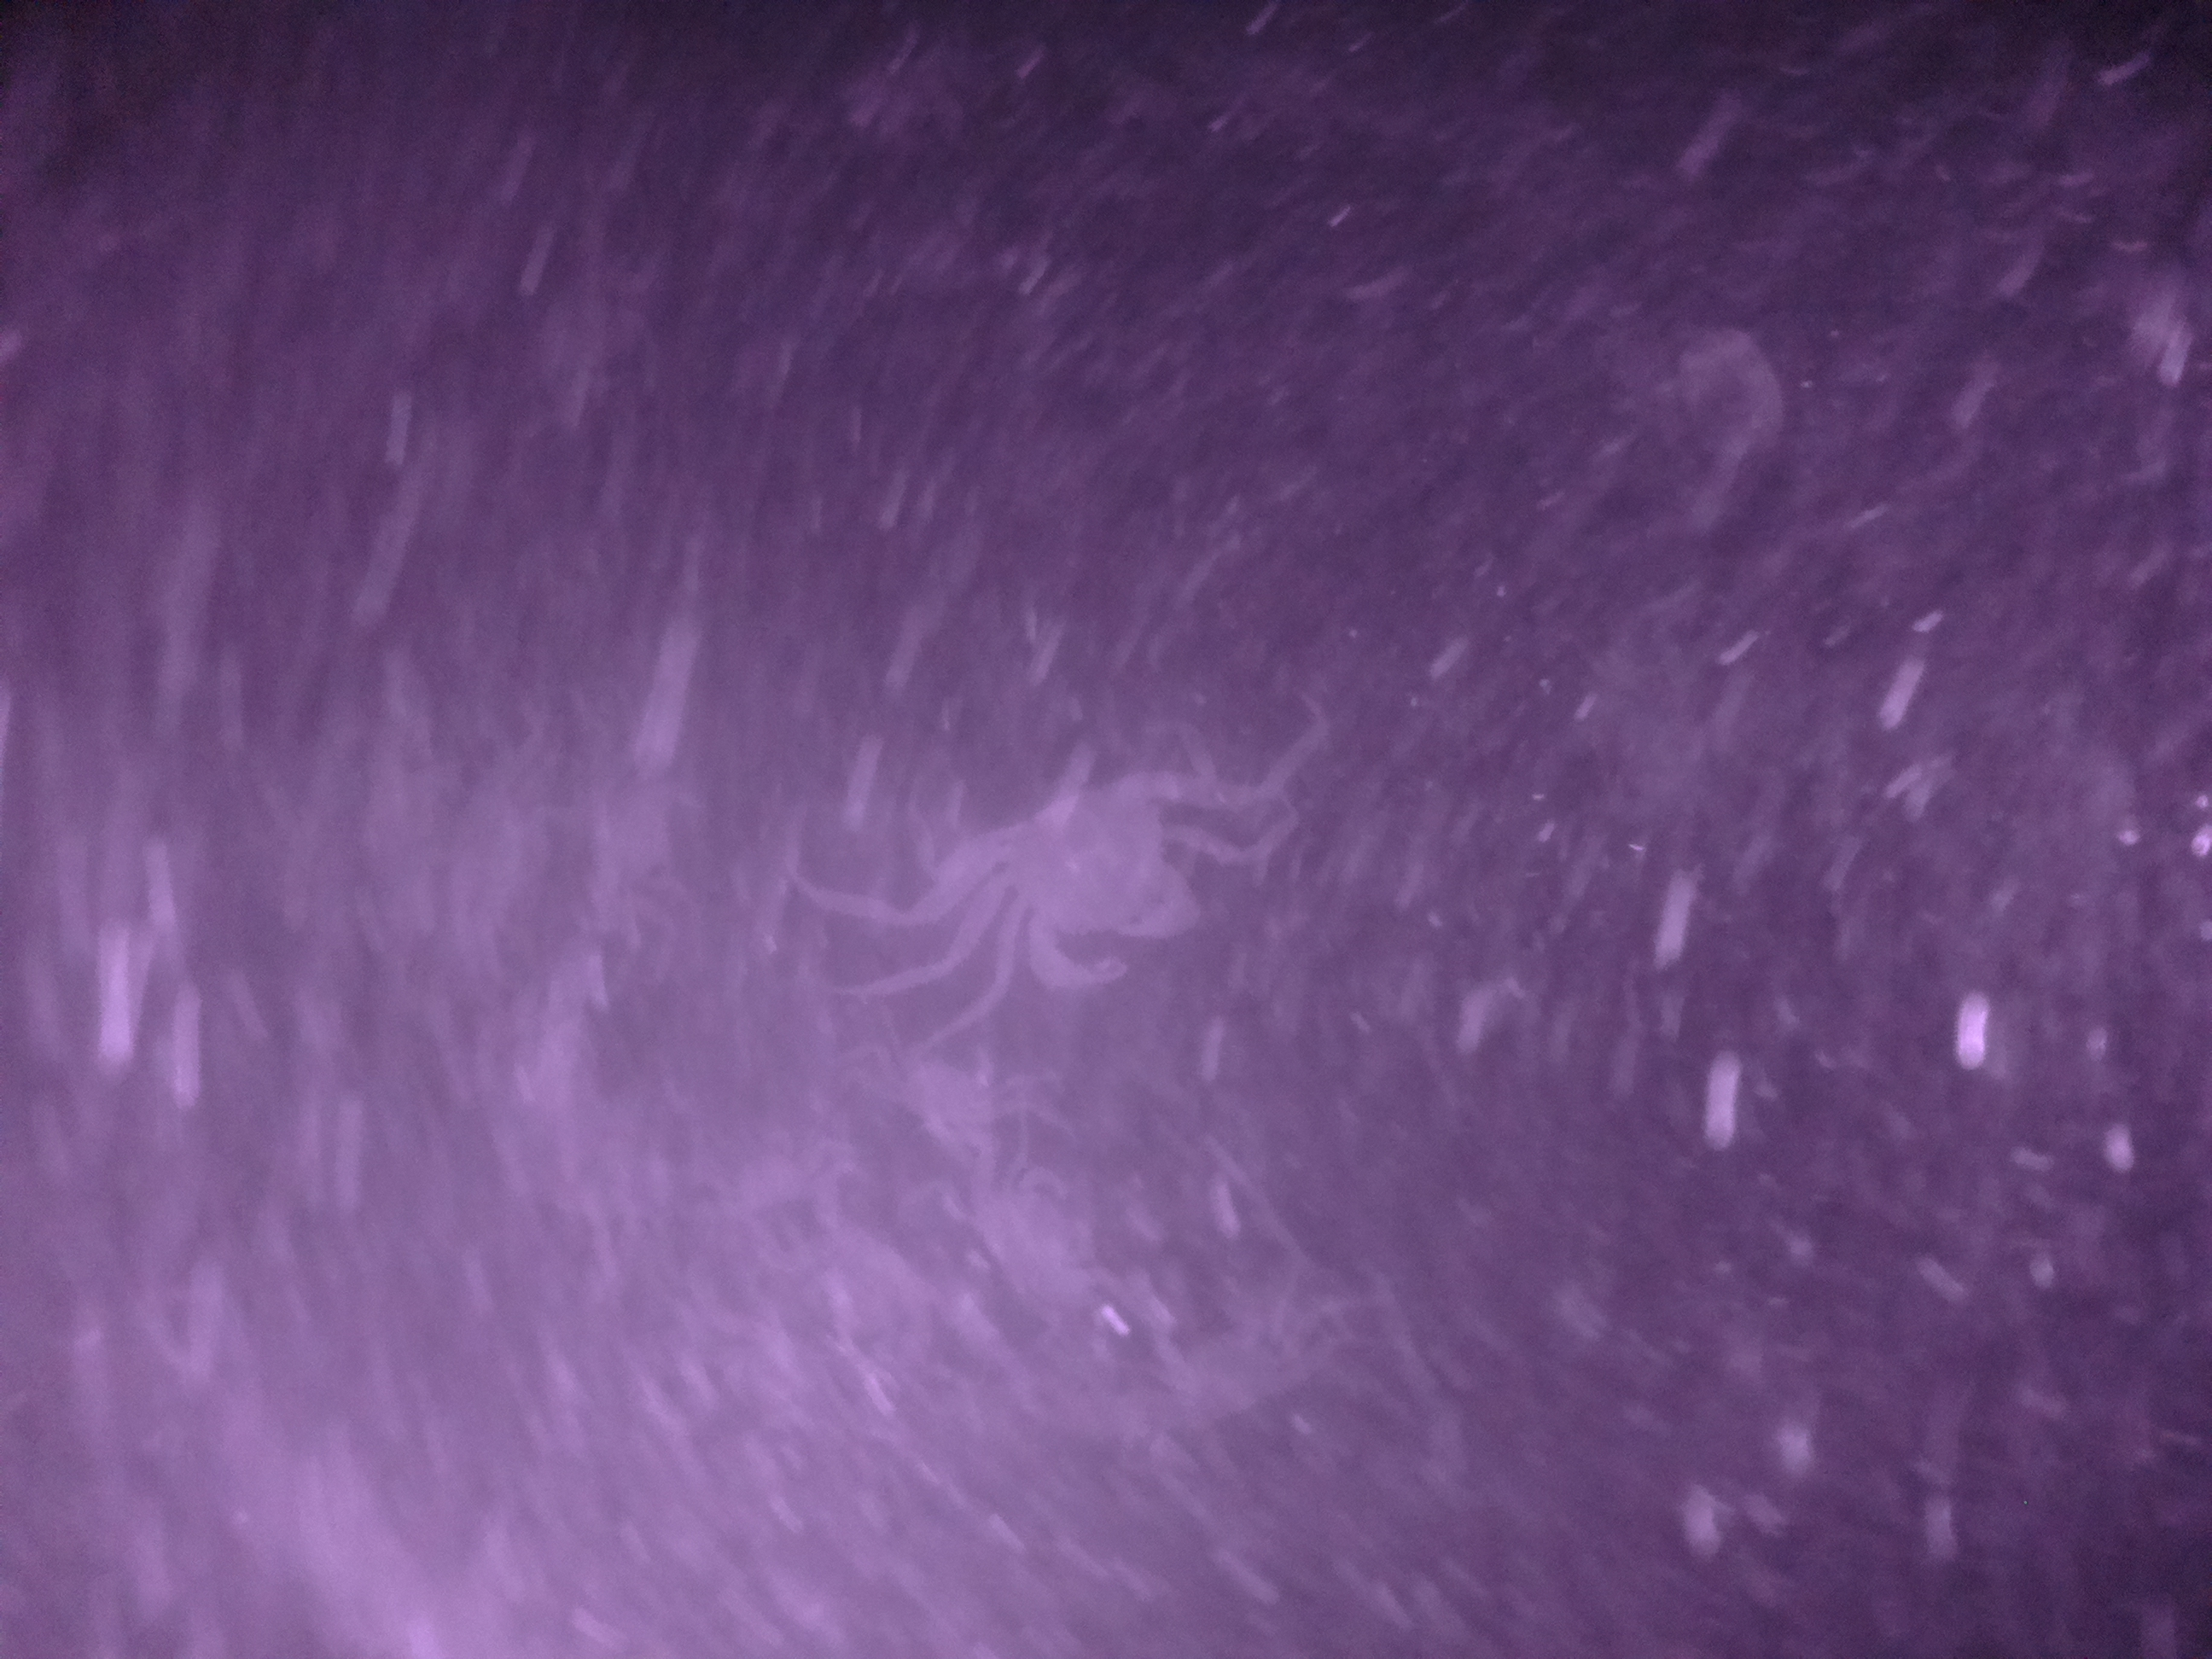Crab: (948, 746, 1231, 1011)
